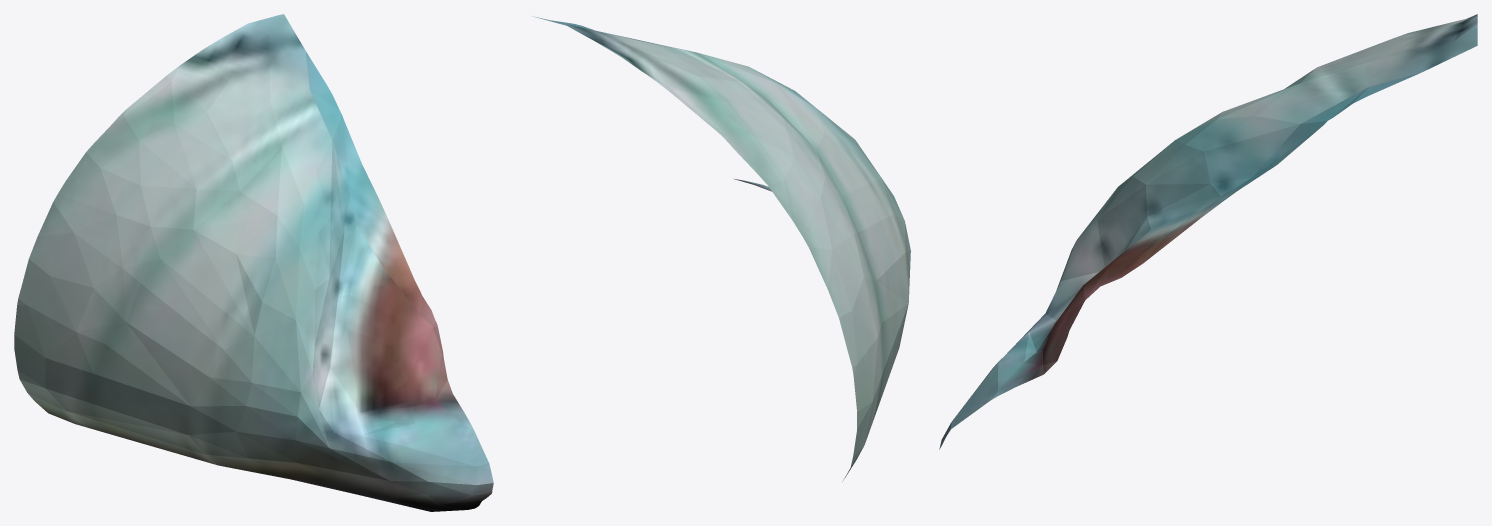
3 views of the same model, side by side, from view 1: azimuth 30°, elevation 25°; view 2: azimuth 150°, elevation 25°; view 3: azimuth 270°, elevation 25° (orthographic). The views are drawn at different scales.
Size of the model in its own units: 29.73 by 38.27 by 40.05.
Materials: 1 (1 with a texture image).
